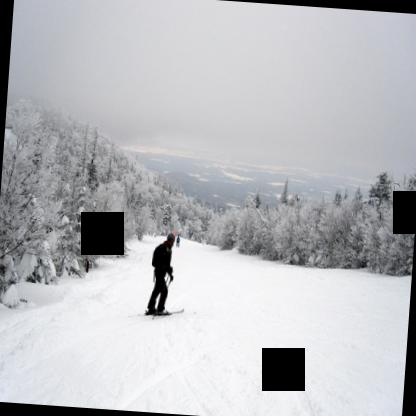backpack: (152, 244, 163, 269)
